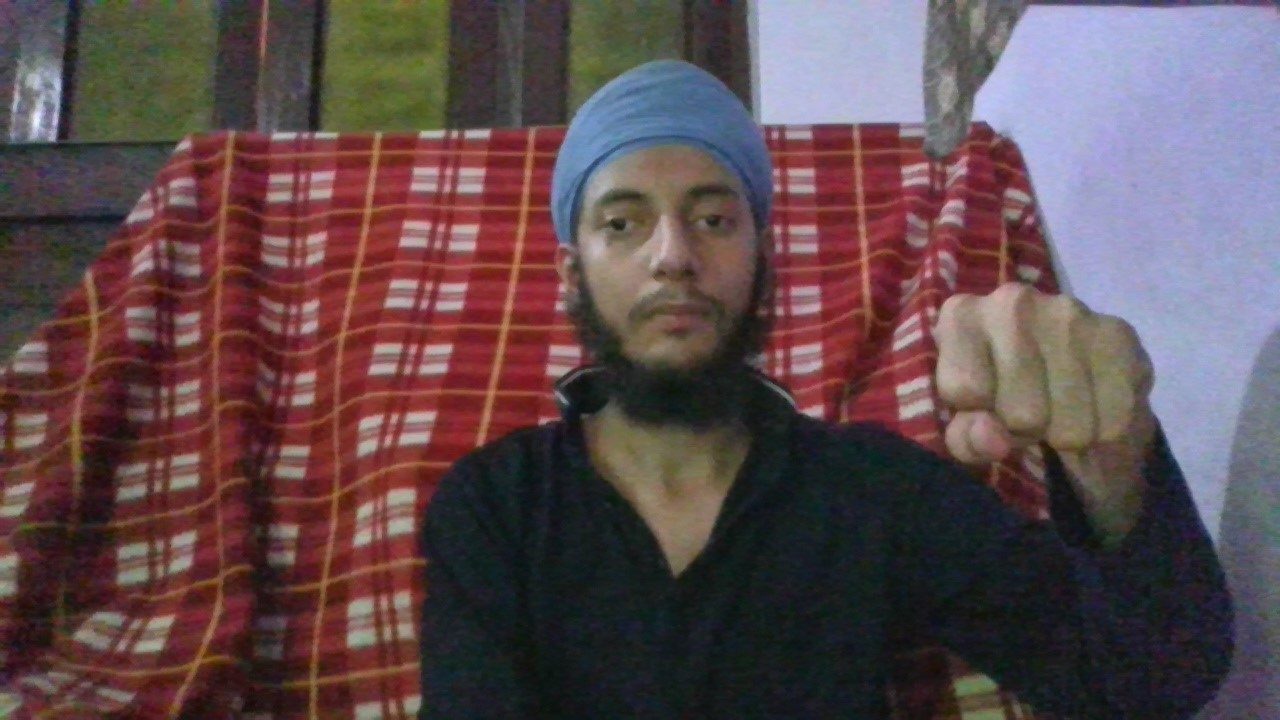Yes: (931, 282, 1136, 466)
